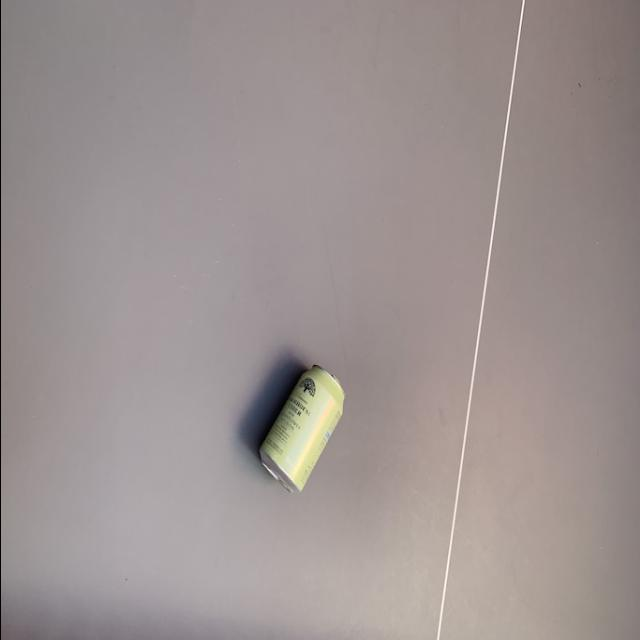Aluminum Can: (253, 350, 345, 496)
